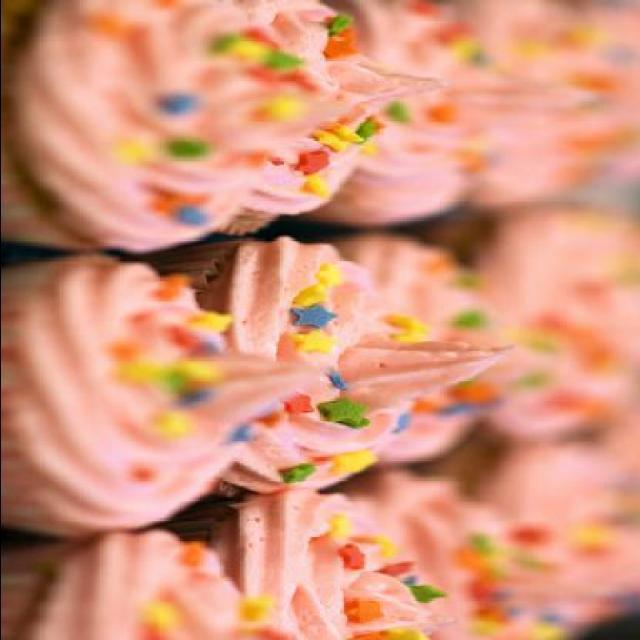Muffin: (140, 233, 516, 498), (1, 253, 321, 542), (2, 0, 367, 252), (309, 0, 606, 226), (328, 228, 580, 464), (213, 0, 444, 240), (142, 484, 464, 640), (457, 209, 640, 434), (333, 466, 561, 640), (460, 431, 640, 638), (474, 0, 640, 212), (2, 524, 302, 638)
